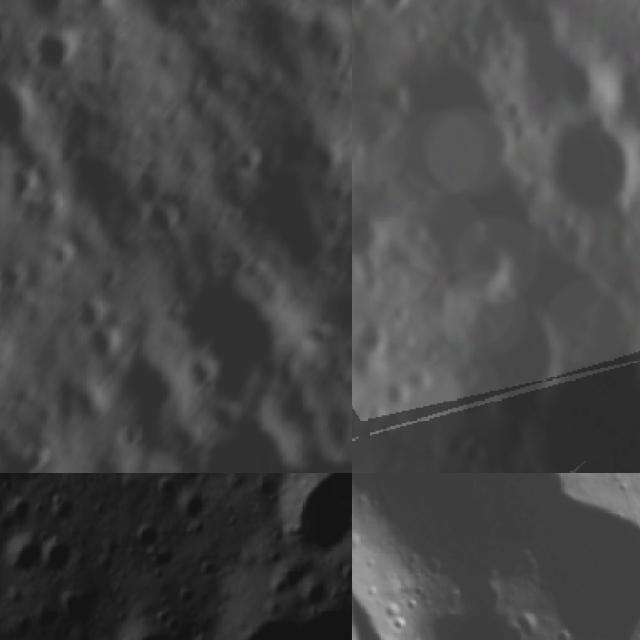crater: (408, 261, 602, 465), (475, 0, 609, 135), (184, 256, 296, 411), (529, 104, 640, 238), (256, 473, 352, 580), (276, 576, 352, 640), (217, 594, 317, 640), (0, 83, 53, 166), (52, 576, 118, 639), (358, 63, 421, 128), (100, 601, 205, 640), (612, 183, 640, 329), (352, 196, 401, 272), (0, 519, 53, 588), (260, 552, 320, 608), (32, 523, 86, 583), (32, 27, 86, 85), (352, 310, 401, 373), (35, 478, 91, 532), (168, 480, 215, 529), (0, 484, 42, 535), (76, 322, 117, 373), (361, 0, 417, 34), (14, 437, 60, 473), (110, 420, 153, 458), (183, 350, 220, 394), (126, 514, 166, 552), (229, 136, 267, 174), (313, 142, 346, 184), (170, 576, 203, 610), (98, 473, 144, 483)
